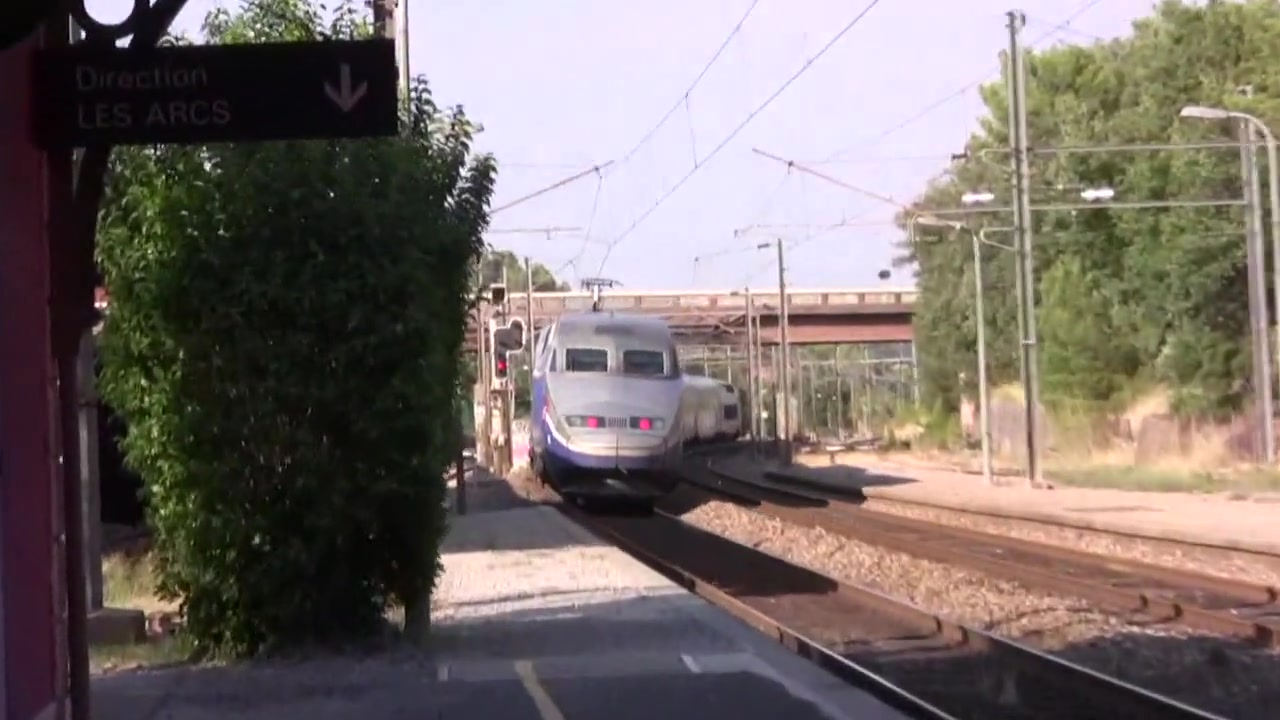train: (526, 310, 745, 489)
